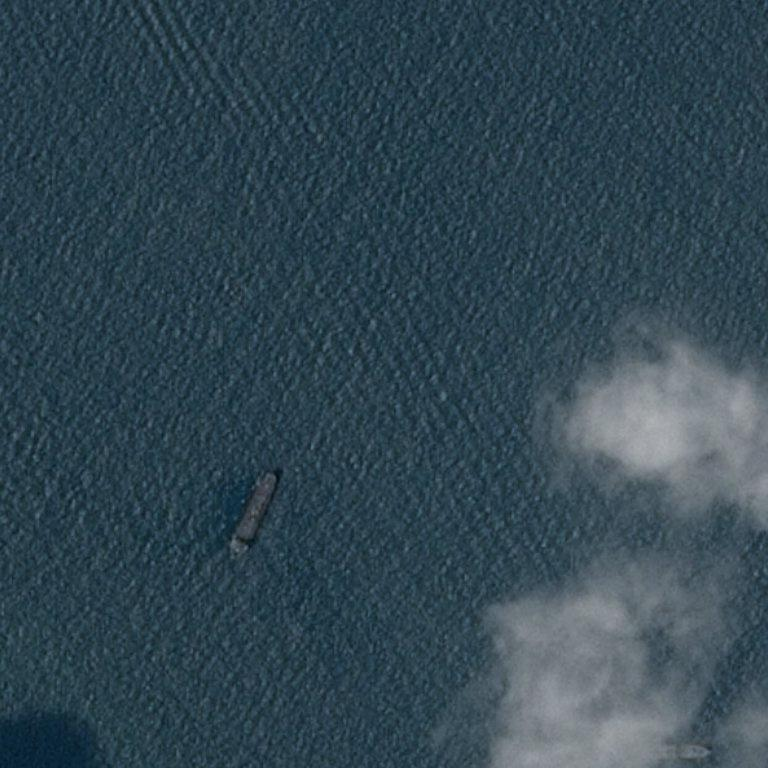ship: (224, 510, 282, 515), (229, 545, 237, 553), (269, 471, 274, 477), (227, 544, 233, 549)
